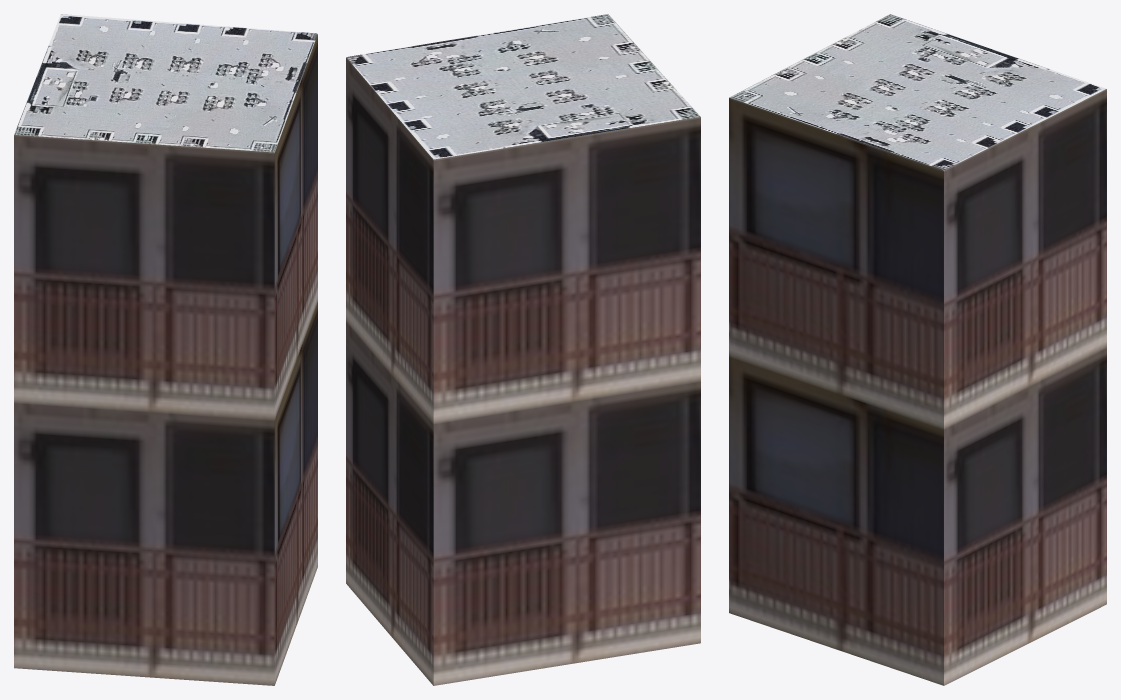
Rendered from ResTex__68.fbx.
3 views of the same model, side by side, from view 1: azimuth 30°, elevation 25°; view 2: azimuth 150°, elevation 25°; view 3: azimuth 270°, elevation 25° (orthographic). The views are drawn at different scales.
Parts seen in each view (by area): view 1: CityEngineMaterial_6_m, CityEngineMaterial_4_m; view 2: CityEngineMaterial_6_m, CityEngineMaterial_4_m; view 3: CityEngineMaterial_6_m, CityEngineMaterial_4_m.
Boxes of the visible parts, x1,y1,x2,y2 form: CityEngineMaterial_6_m: (14,34,317,685); CityEngineMaterial_4_m: (14,14,317,152); CityEngineMaterial_6_m: (346,57,700,685); CityEngineMaterial_4_m: (346,14,700,159); CityEngineMaterial_6_m: (729,89,1106,685); CityEngineMaterial_4_m: (729,14,1105,170).
Size of the model in its own units: 3.91 by 6 by 3.98.
2 materials, 2 textured.
